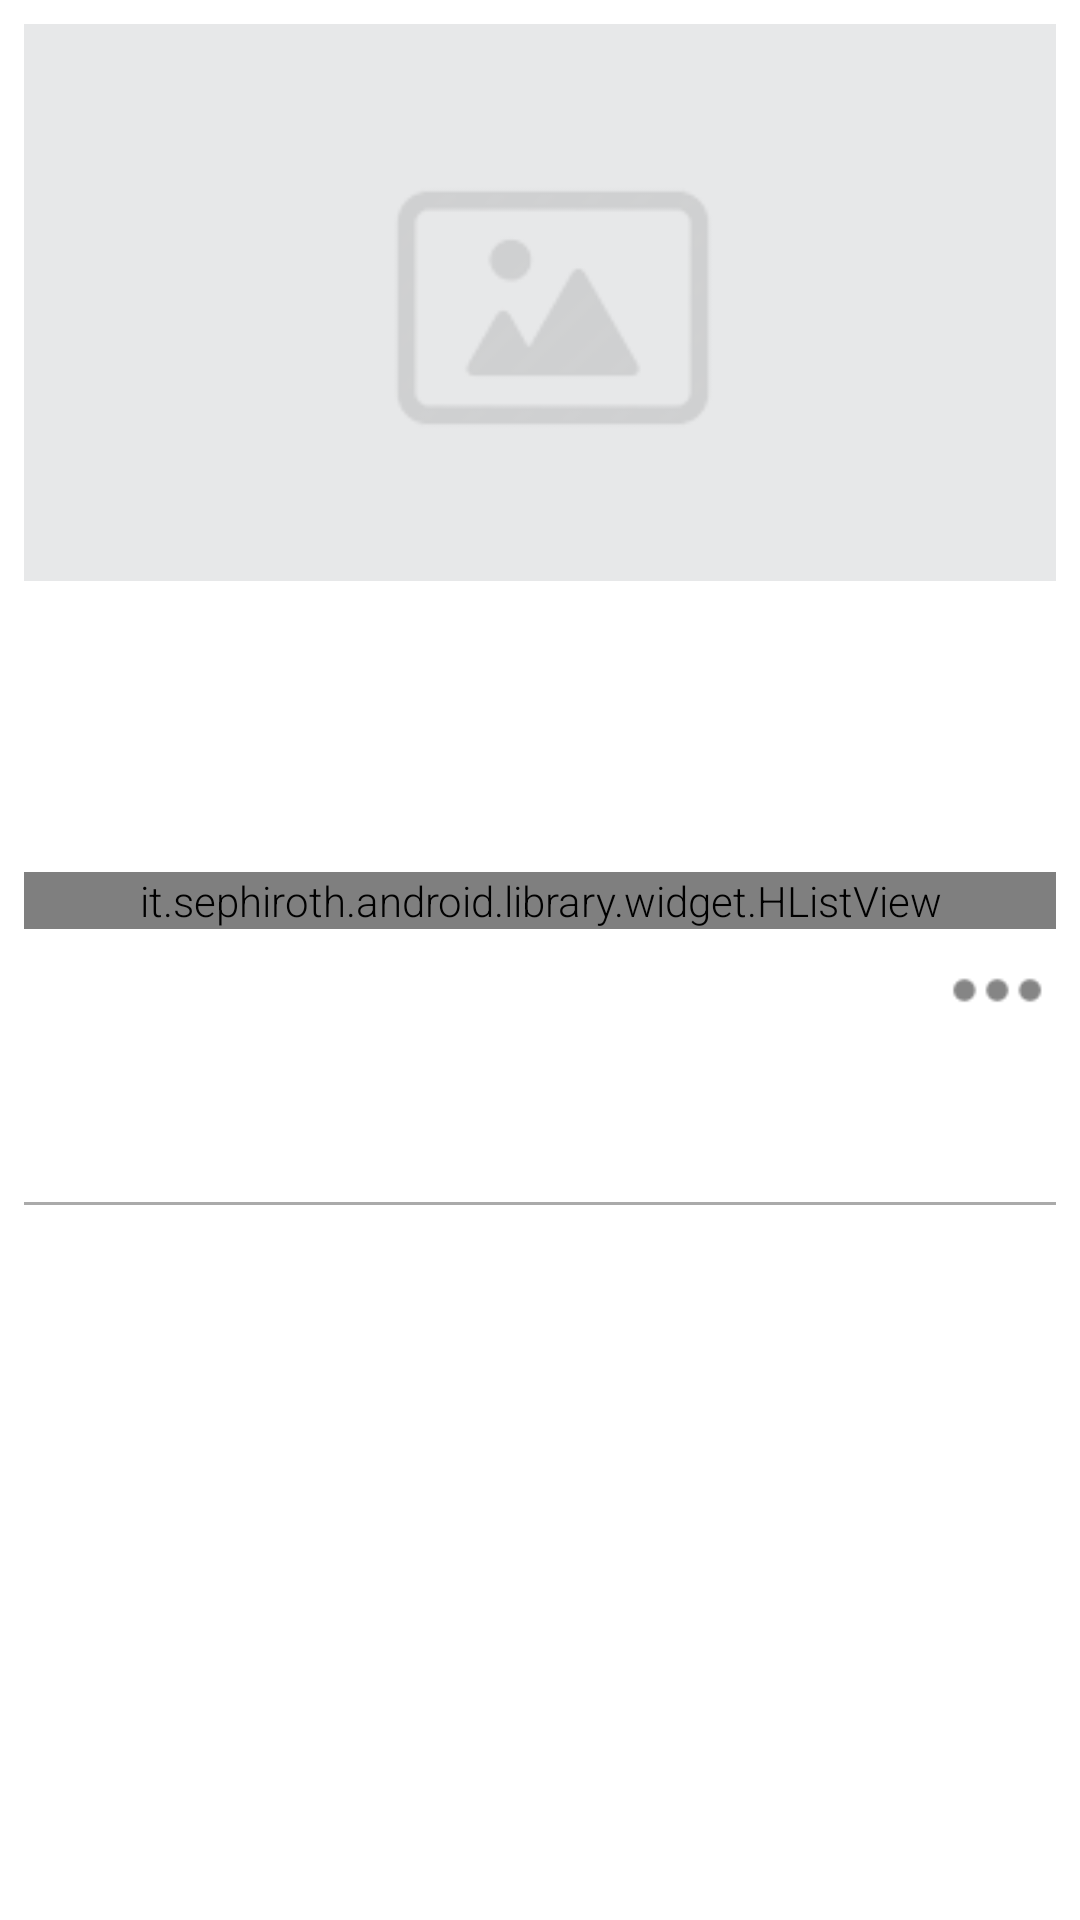

Locate icon controls on the screen. Image size 1080×1920, boxes as box=[x1, y1, x2, y2].
more: box=[953, 978, 1042, 1002]
